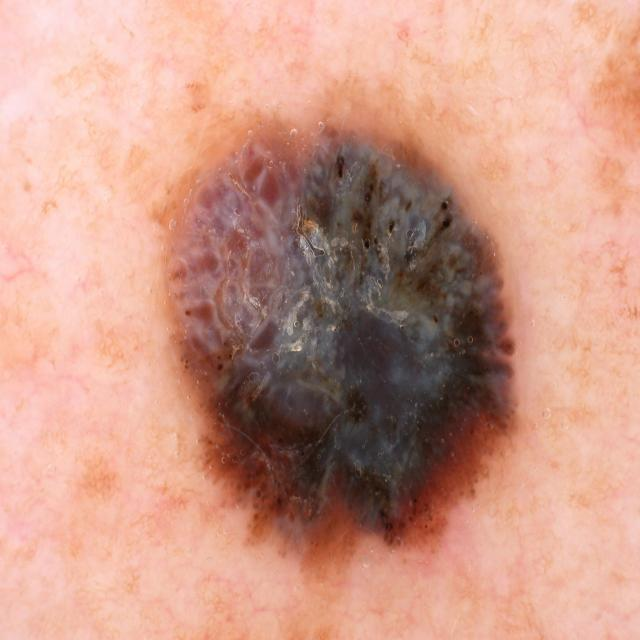Melanoma: (167, 116, 525, 563)
